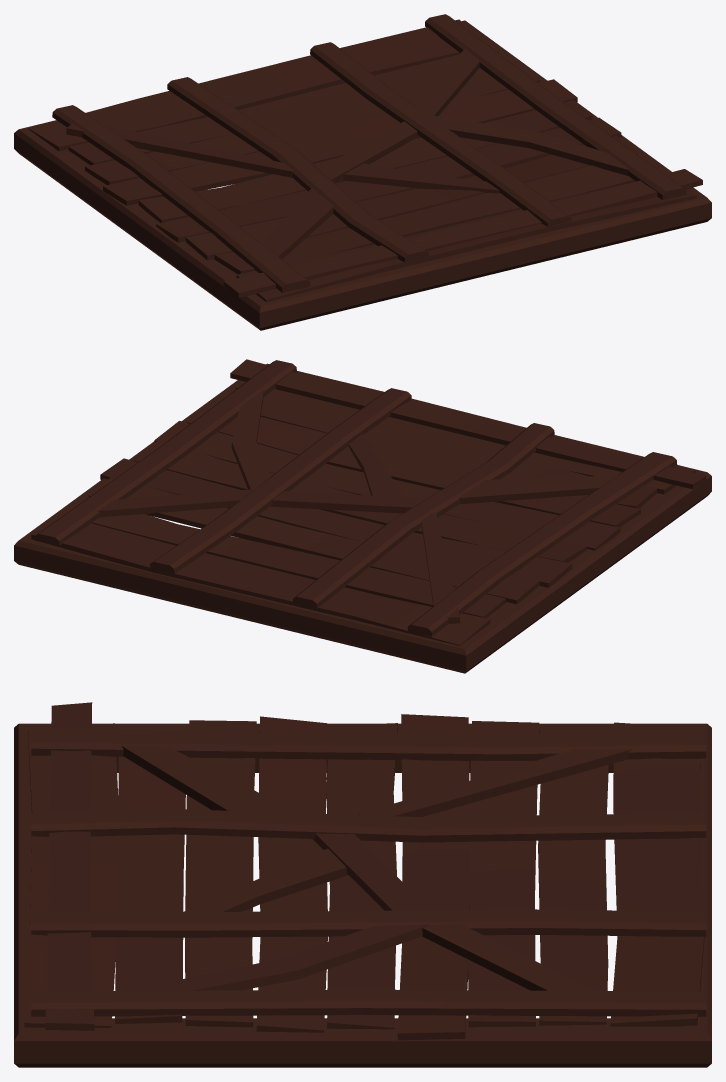
The model's file is standard_wooden_roof_5.FBX.
The picture shows the model from 3 angles, top to bottom: view 1: azimuth 30°, elevation 25°; view 2: azimuth 150°, elevation 25°; view 3: azimuth 270°, elevation 25°; orthographic projection. The views are drawn at different scales.
Visible parts, largest first — view 1: standard_wooden_roof_5; view 2: standard_wooden_roof_5; view 3: standard_wooden_roof_5.
Boxes of the visible parts, box(x1,y1,x2,y2) form: standard_wooden_roof_5: box(14, 14, 711, 330); standard_wooden_roof_5: box(14, 359, 711, 673); standard_wooden_roof_5: box(14, 702, 711, 1067).
Bounding box in the file's own units: 601 × 44.54 × 552.
